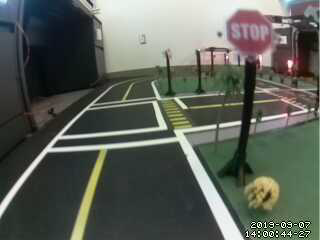Stop_Sign: (224, 8, 276, 57)
